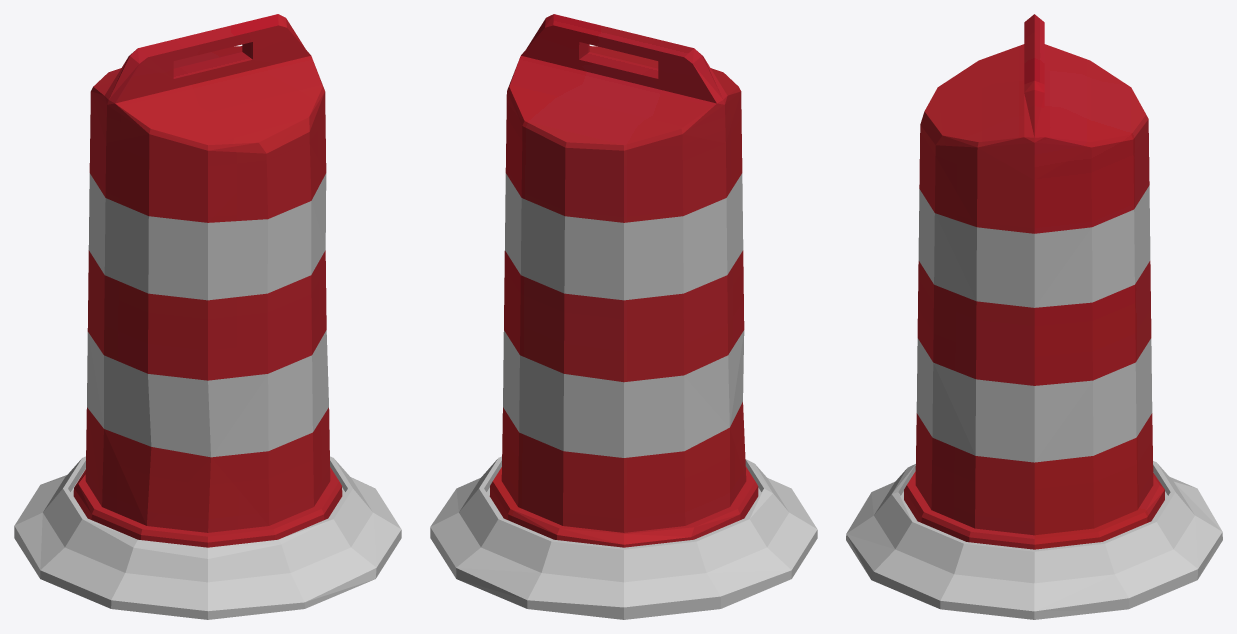
The model's file is RoadBlock00.fbx.
The picture shows the model from 3 angles, left to right: view 1: azimuth 30°, elevation 25°; view 2: azimuth 150°, elevation 25°; view 3: azimuth 270°, elevation 25°; orthographic projection. The views are drawn at different scales.
Parts seen in each view (by area): view 1: SM_Sign_Roadlblock_01.mo; view 2: SM_Sign_Roadlblock_01.mo; view 3: SM_Sign_Roadlblock_01.mo.
Boxes of the visible parts, box(x1,y1,x2,y2) form: SM_Sign_Roadlblock_01.mo: box(14, 14, 401, 619); SM_Sign_Roadlblock_01.mo: box(430, 14, 817, 619); SM_Sign_Roadlblock_01.mo: box(846, 14, 1222, 619).
Bounding box in the file's own units: 65.85 × 95.08 × 65.85.
